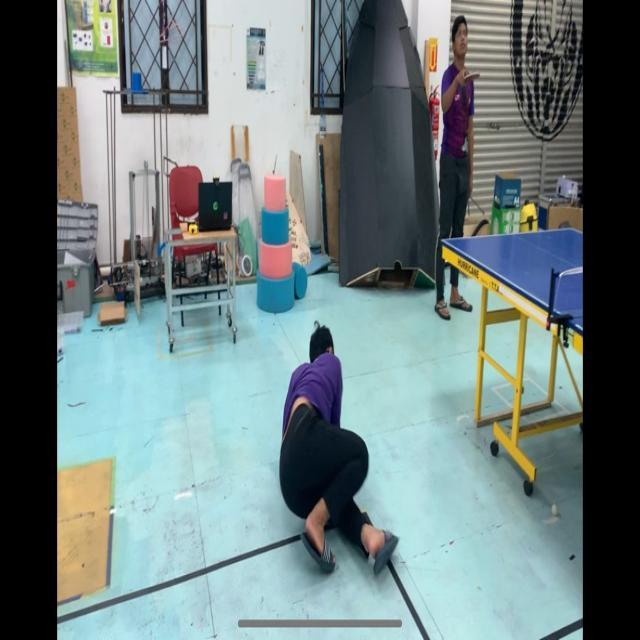fall: (274, 311, 398, 582)
